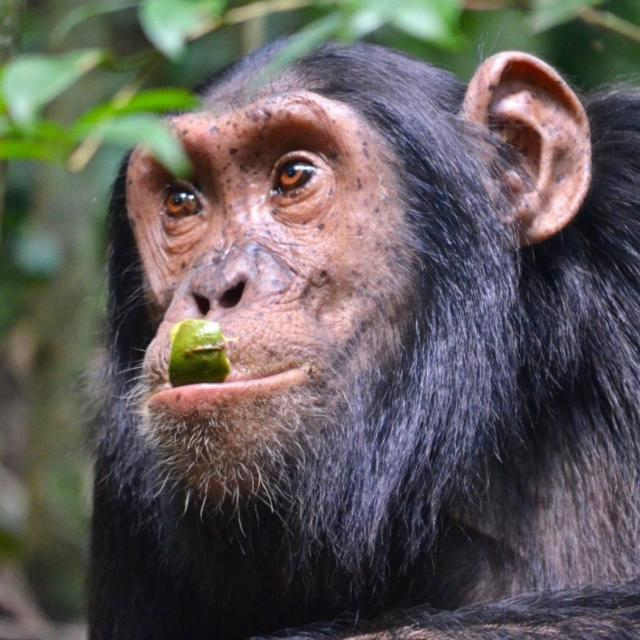Chimpanzee: (88, 32, 640, 640)
